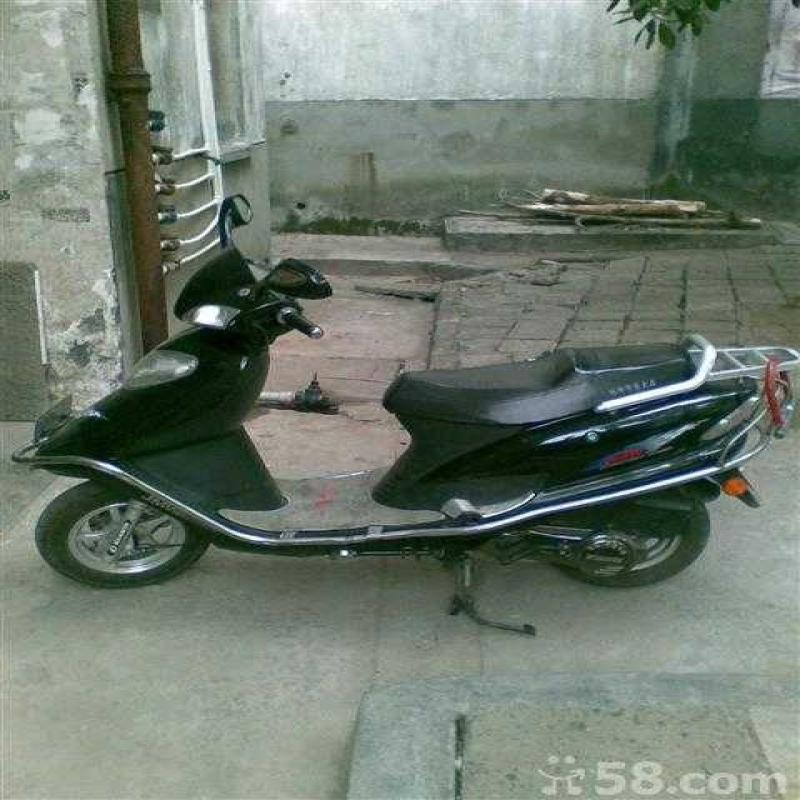bike: (15, 184, 786, 570)
